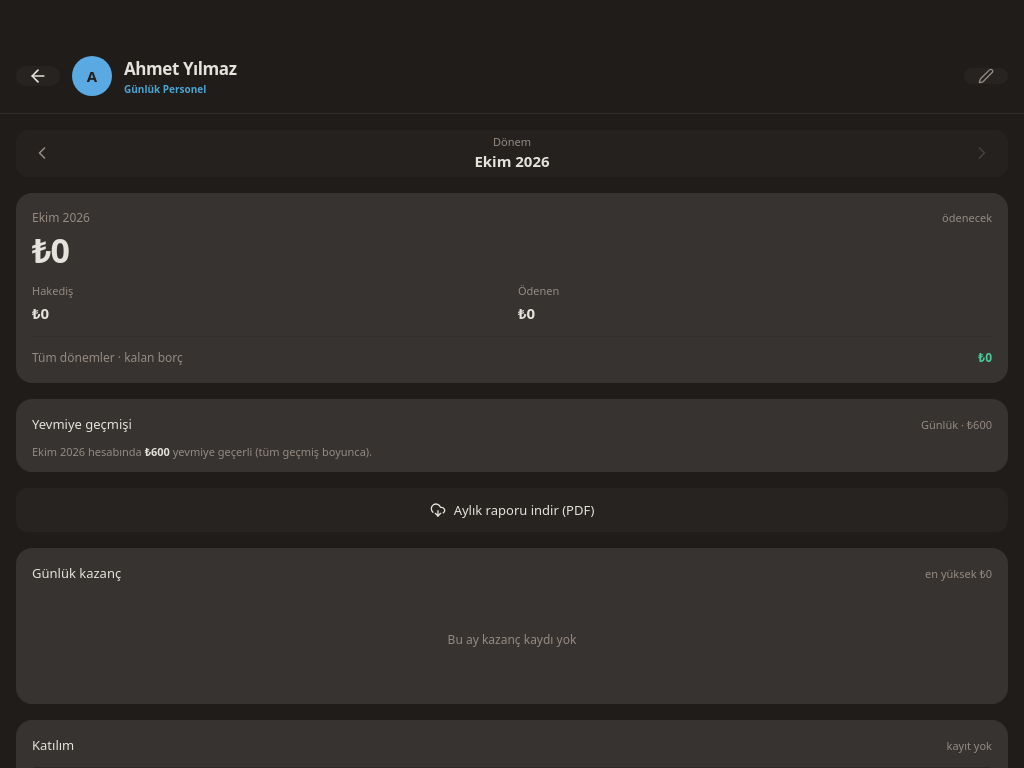
Test: Form alanları görünür etiketlerine bağlı › düzenleme diyaloğundaki alanlar etiketleriyle ilişkili
Step 1. Click the button named "Çalışanı düzenle" → point(986, 76), box [964, 68, 1008, 84]
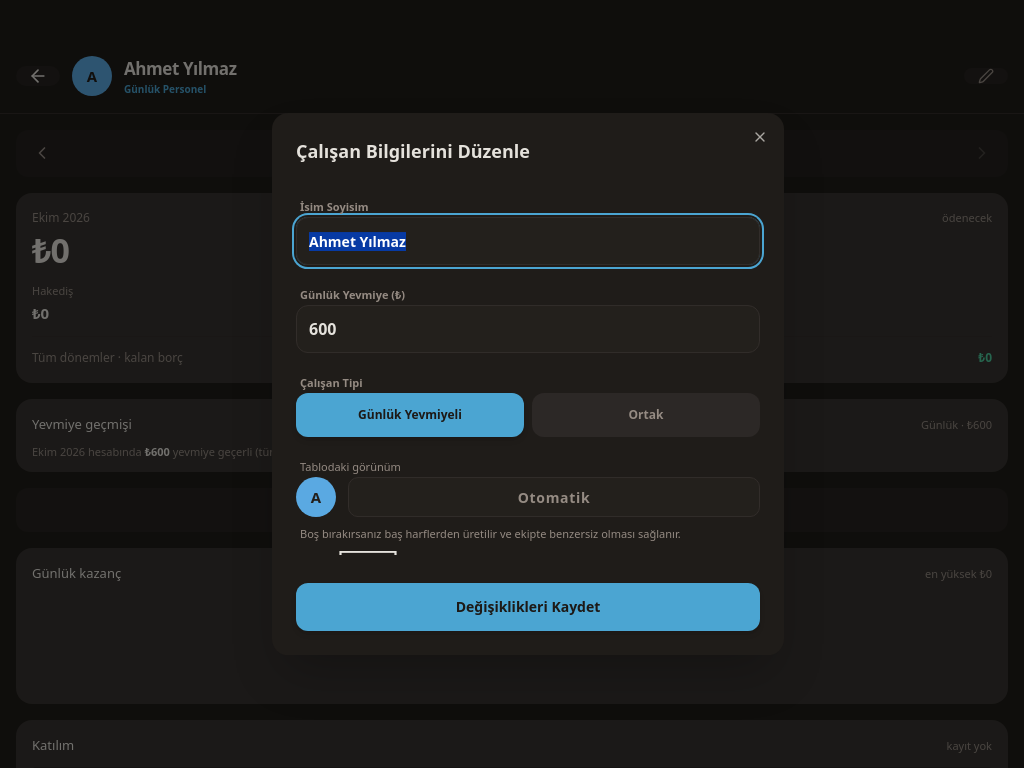
Now the field labelled "İsim Soyisim" is shown, box [296, 217, 760, 265]
Now the number field labelled "Günlük Yevmiye (₺)" is shown
Step 2. Replace the text in the number field labelled "Günlük Yevmiye (₺)" with "2000" → point(528, 329), box [296, 305, 760, 353]
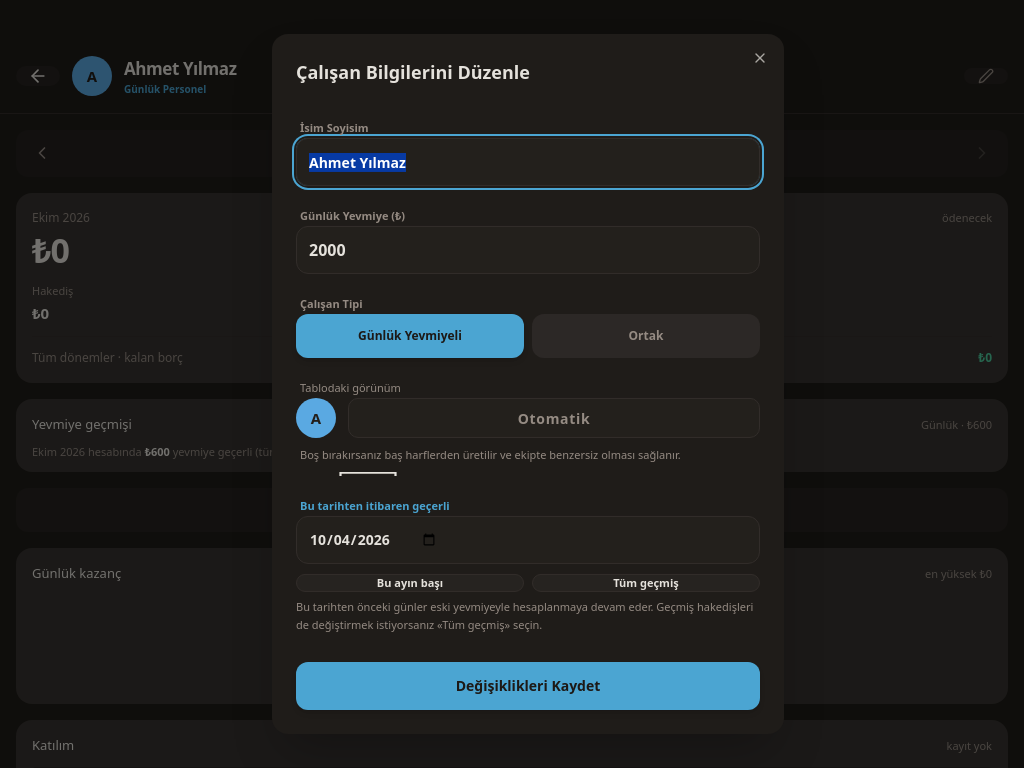
Now the date field labelled "Bu tarihten itibaren geçerli" is shown, box [296, 516, 760, 564]
